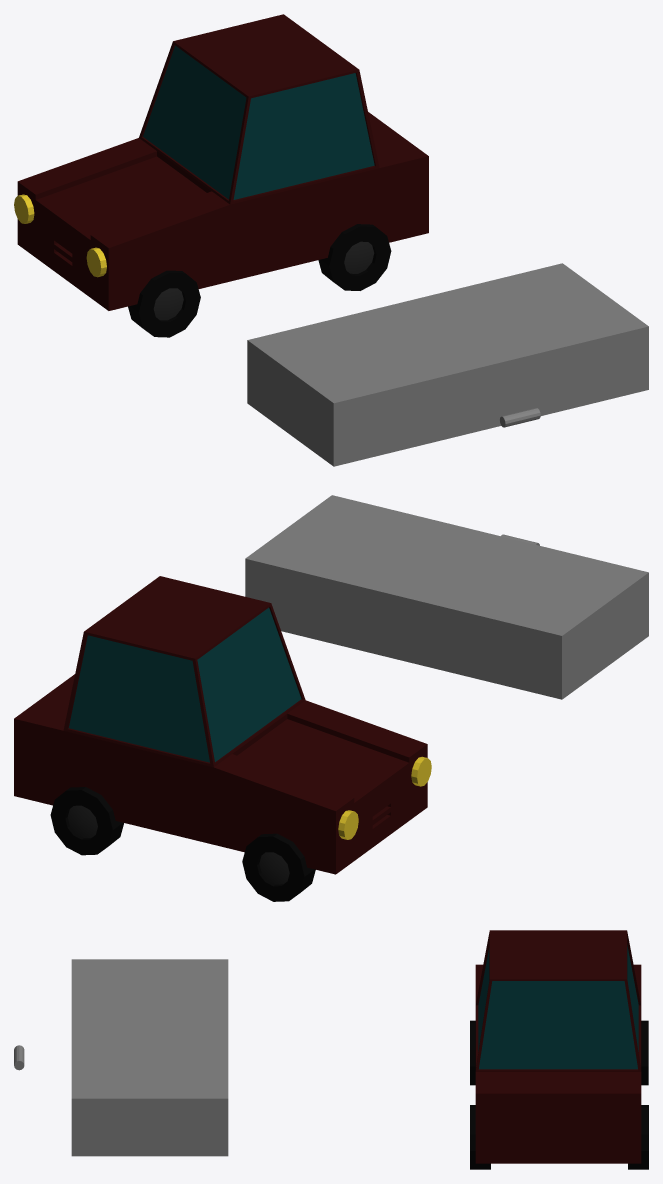
Rendered from Kogel.obj.
3 renders of one model, top to bottom at view 1: azimuth 30°, elevation 25°; view 2: azimuth 150°, elevation 25°; view 3: azimuth 270°, elevation 25°, orthographic. The views are drawn at different scales.
Parts seen in each view (by area): view 1: pCylinder8, pCube2; view 2: pCylinder8, pCube2; view 3: pCylinder8, pCube2.
Part boxes in pixels (left/top/right/bottom): pCylinder8: left=14, top=14, right=428, bottom=337; pCube2: left=247, top=263, right=648, bottom=466; pCylinder8: left=14, top=576, right=431, bottom=901; pCube2: left=245, top=495, right=648, bottom=699; pCylinder8: left=470, top=930, right=648, bottom=1169; pCube2: left=71, top=959, right=228, bottom=1156.
Size of the model in its own units: 15.12 by 9.36 by 28.11.
